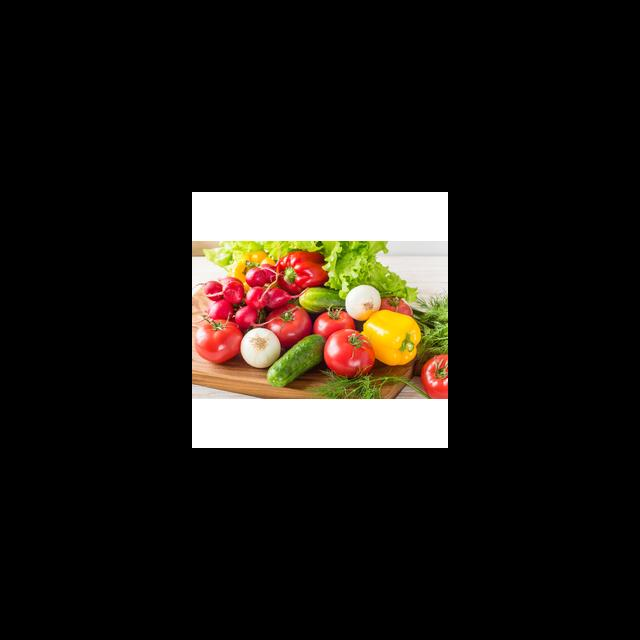food_waste: (194, 241, 448, 396)
